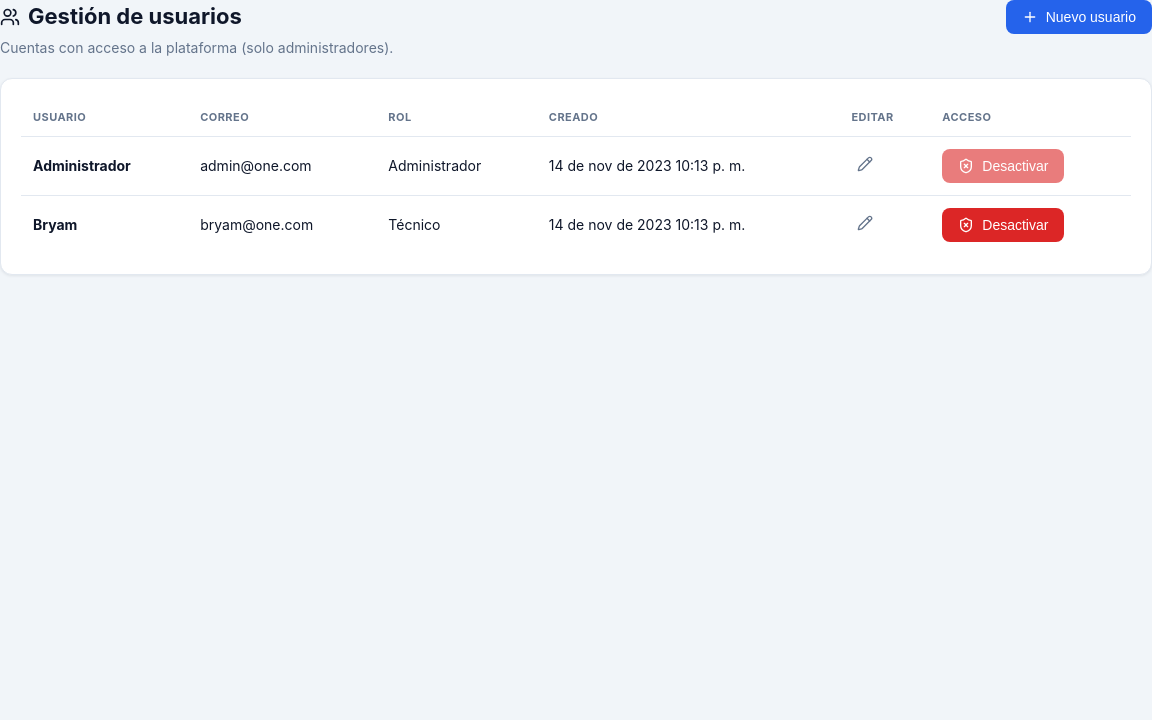
Usuarios › muestra el rol deshabilitado al editar la propia cuenta
What coordinates should you click on to do the following:
click the button named "editar administrador"
I would click on:
 (866, 166)
Its box is [852,150,880,181].
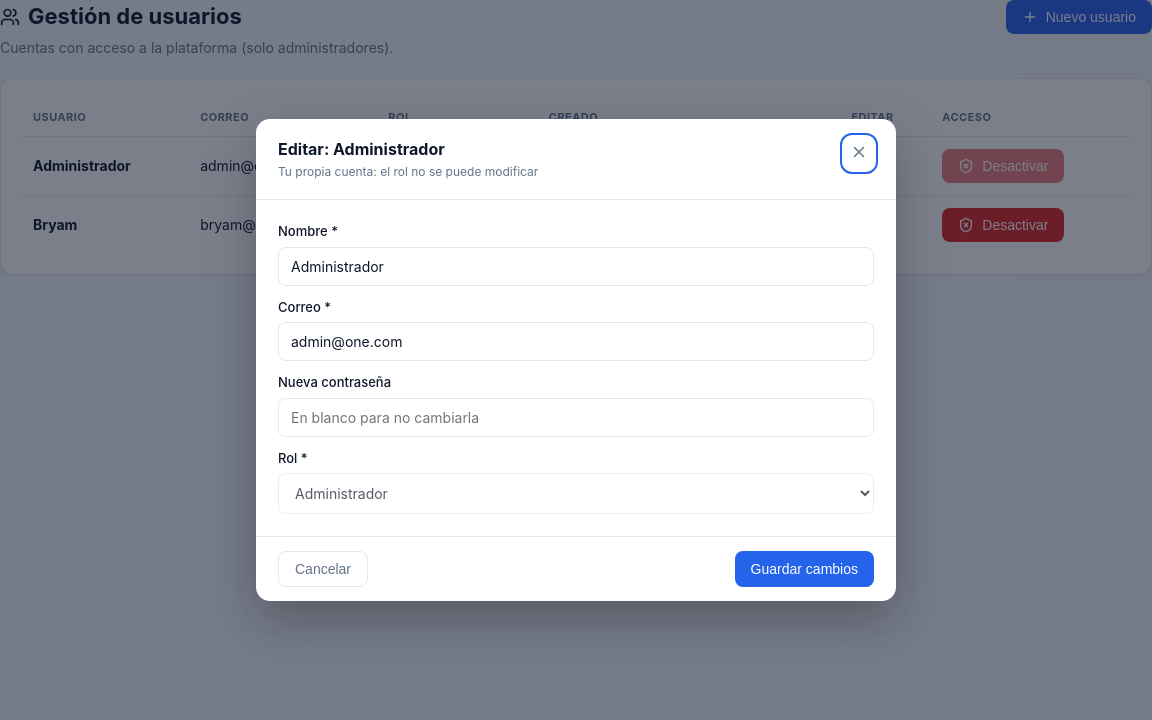
Expected: the dropdown labelled "Rol *" is disabled, [278,473,874,514]
Expected: the text "Tu propia cuenta: el rol no se puede modificar" is shown, [278,163,538,181]
